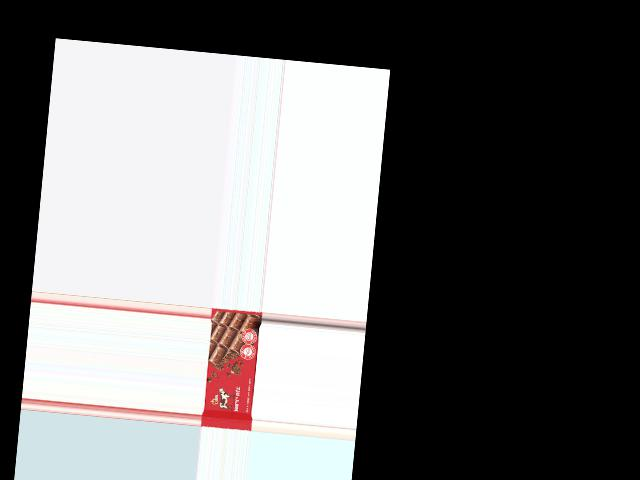chocolate: (201, 309, 262, 432)
